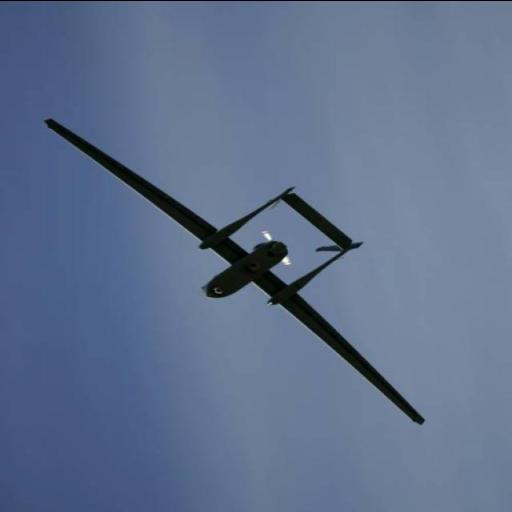uav: (41, 114, 429, 424)
